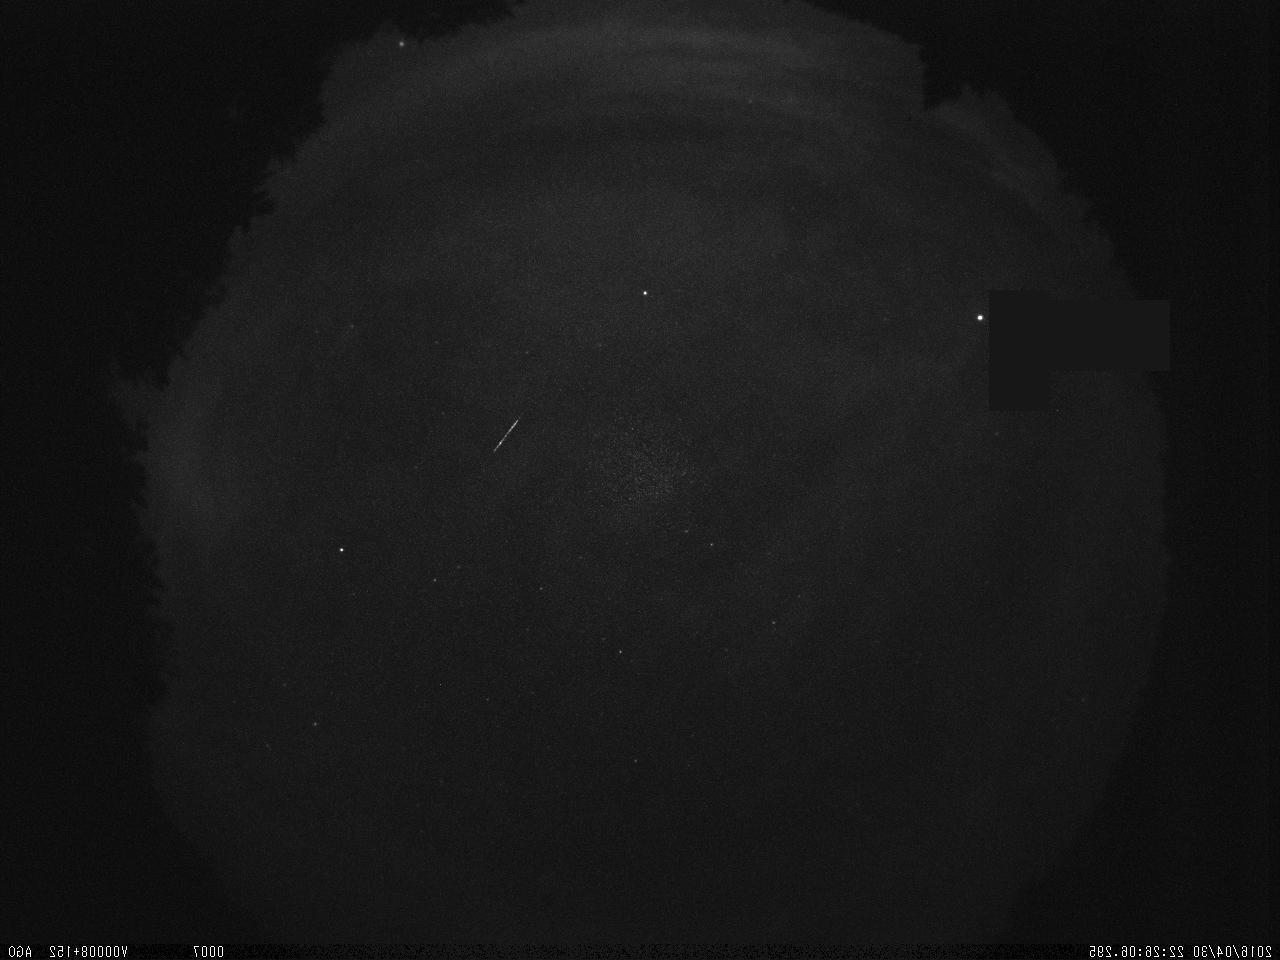meteor: (478, 400, 536, 465)
